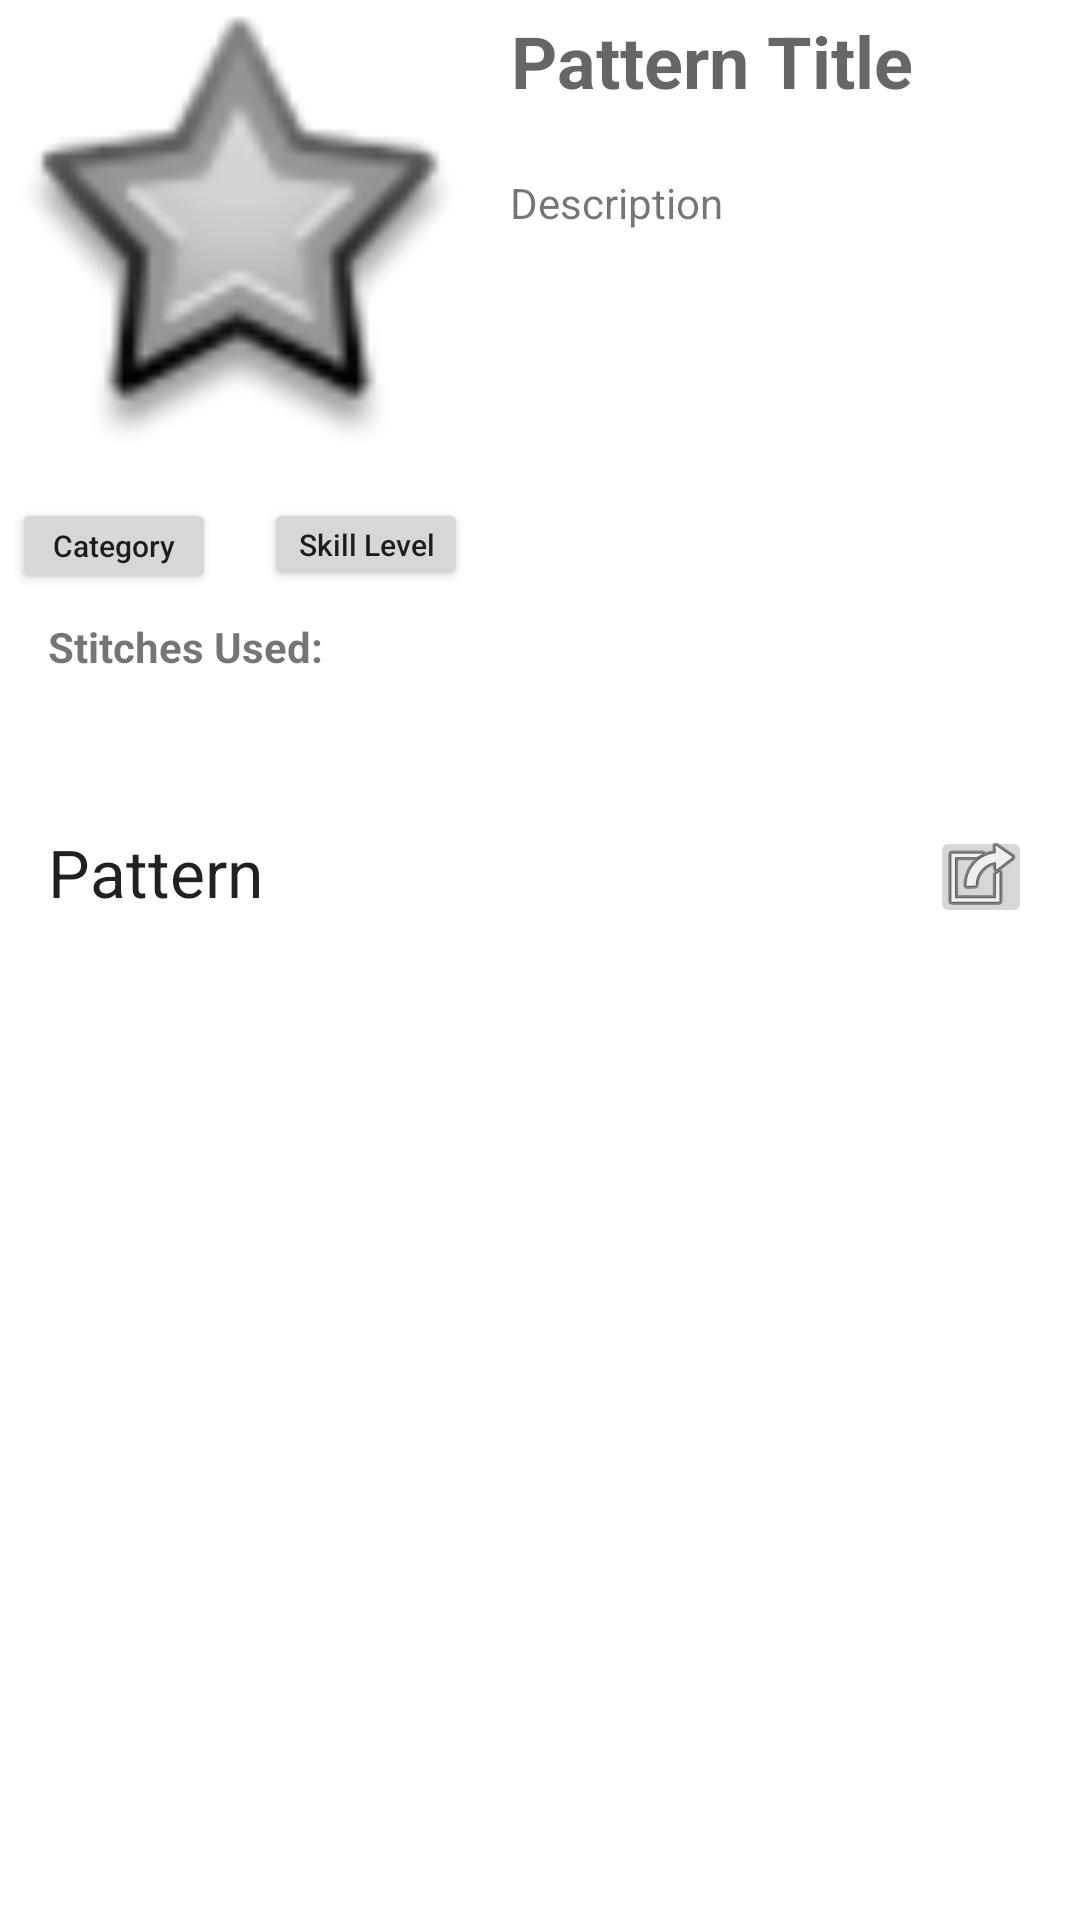

Icons on this 1080w x 1920h Android screen, each with its box as bbox=[x1, y1, x2, y2]:
set as: bbox=[942, 842, 1020, 910]
